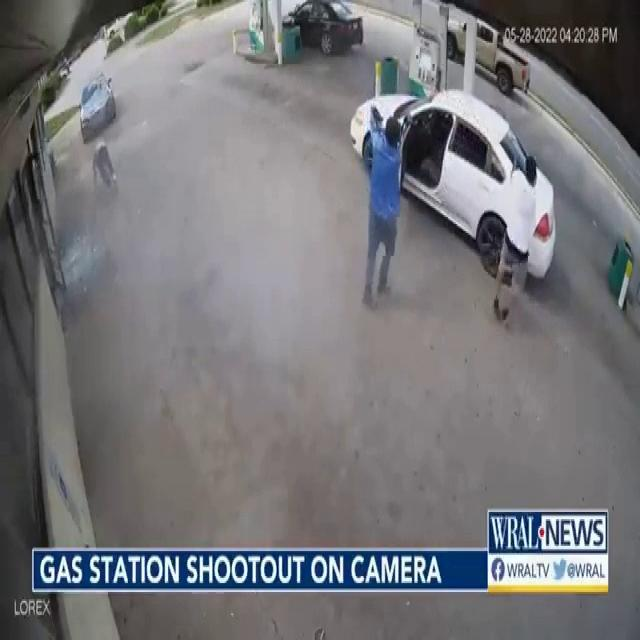penembakan: (357, 99, 408, 313)
